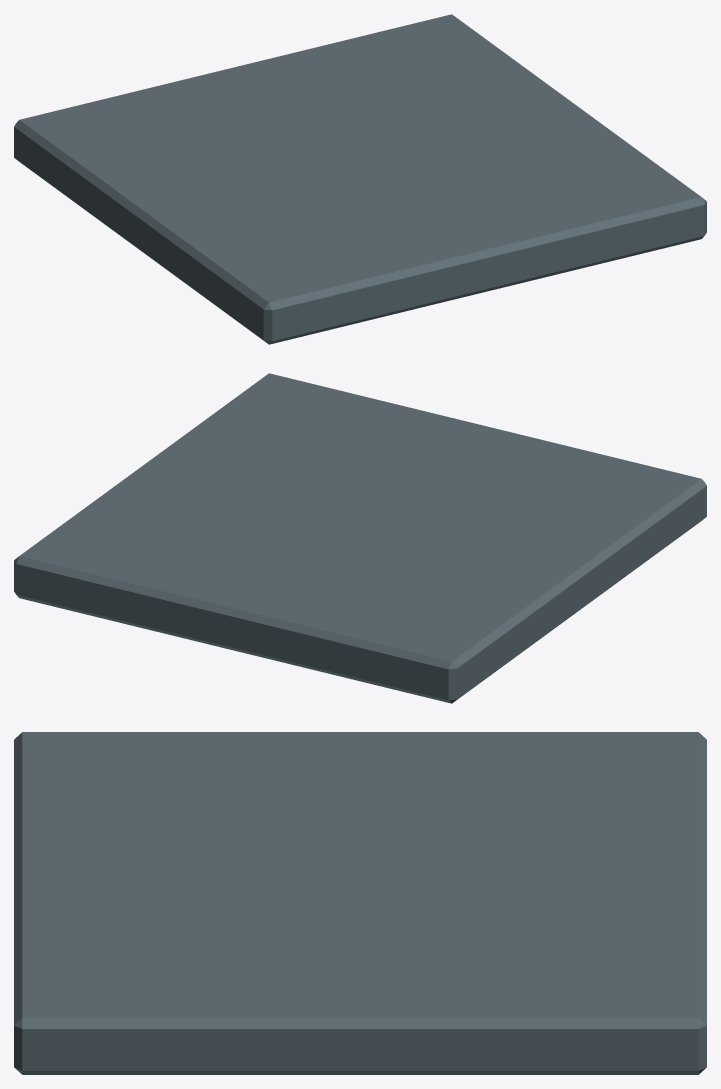
The model's file is phw_floor_tile.glb.
The picture shows the model from 3 angles, top to bottom: view 1: azimuth 30°, elevation 25°; view 2: azimuth 150°, elevation 25°; view 3: azimuth 270°, elevation 25°; orthographic projection. The views are drawn at different scales.
Parts seen in each view (by area): view 1: body; view 2: body; view 3: body.
Part boxes in pixels (x1,y1,x2,y2): body: [14, 14, 706, 344]; body: [14, 373, 706, 703]; body: [14, 732, 706, 1074].
Bounding box in the file's own units: 0.99 × 0.09 × 0.99.
